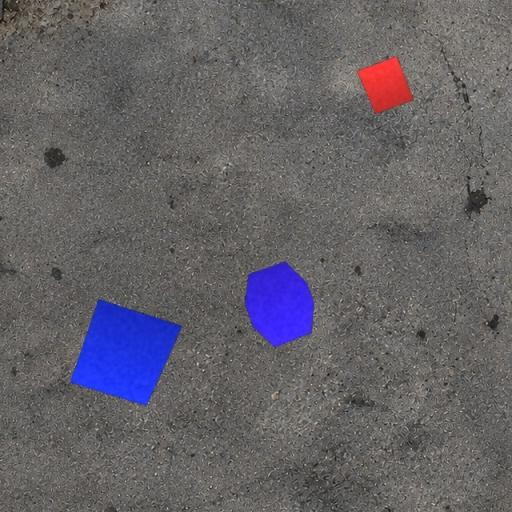BLUE_SQUARE: (70, 298, 183, 406)
RED_SQUARE: (356, 56, 414, 114)
